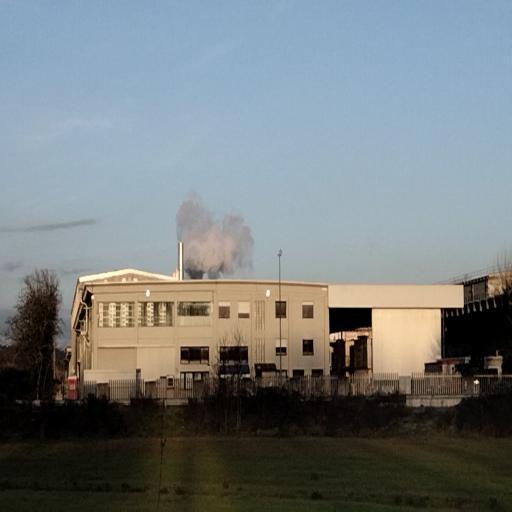leakage: (177, 189, 256, 279)
